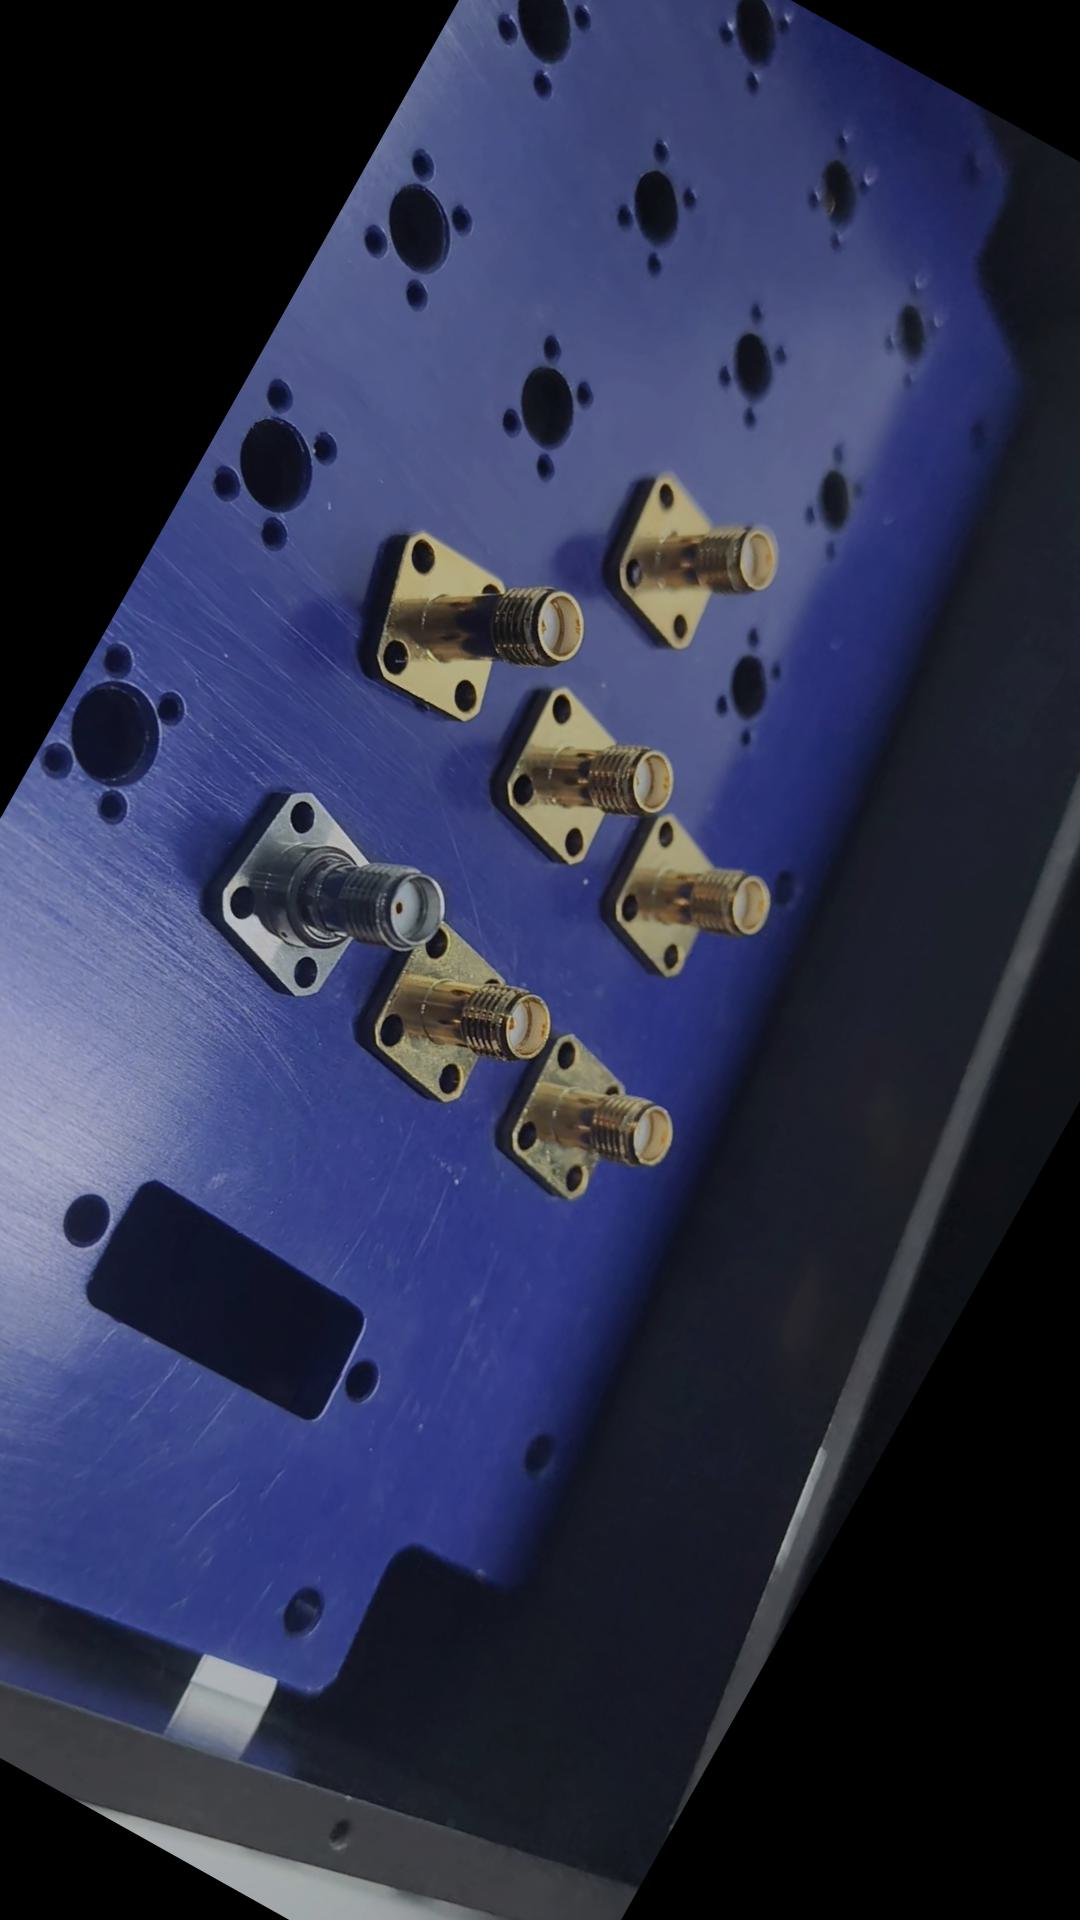SMA: (179, 771, 463, 1044), (328, 504, 595, 758), (349, 914, 572, 1135), (477, 1018, 700, 1238), (471, 679, 692, 891), (575, 460, 790, 669), (582, 802, 789, 1005)
